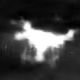plane: (12, 19, 80, 67)
